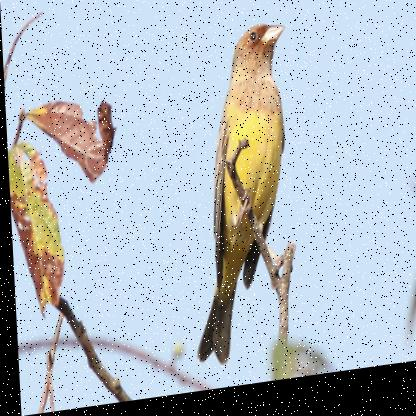Burung: (179, 26, 299, 374)
